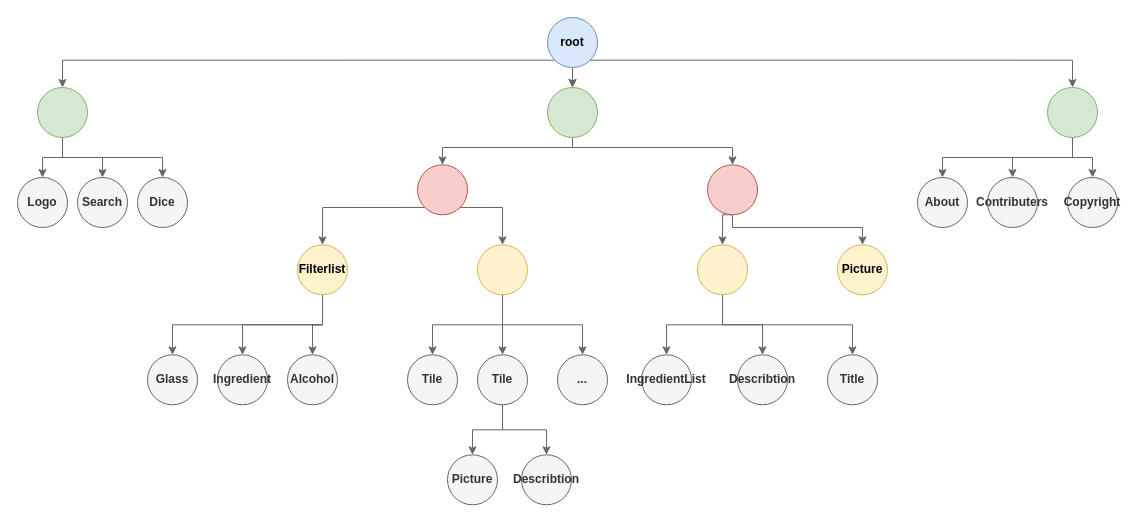
The diagram is 1138 pixels wide and 523 high, and some of its shapes have lost their labels. Here are the shapes that lost their labels. From the top down, the centre of each, then its label:
At (62,112): "header".
At (572,112): "main".
At (1072,112): "footer".
At (442,189): "Browse".
At (732,189): "CocktailView".
At (502,269): "TileMap".
At (722,269): "Text".
